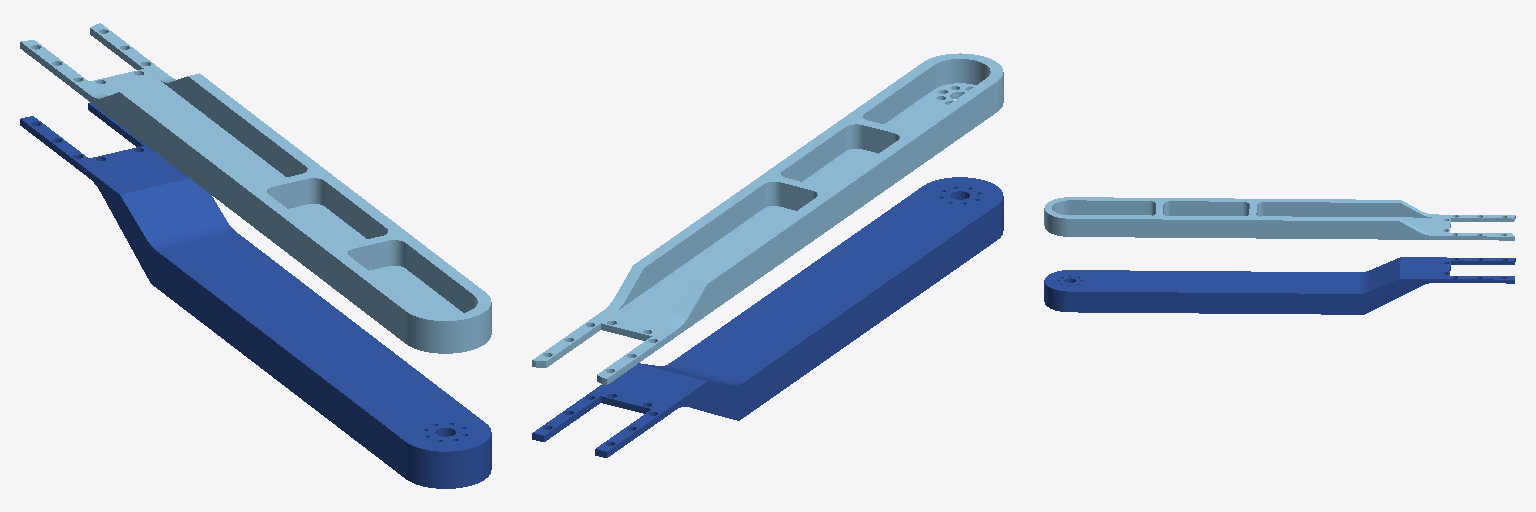
URDF robot description (project_robot):
<?xml version="1.0" ?>
<!-- Generated using onshape-to-robot -->
<!-- Onshape document_id: af0115e61c5582d0fb054981 -->
<robot name="project_robot">
  <!-- Link armbasemount -->
  <link name="armbasemount">
    <inertial>
      <origin xyz="-6.5271e-09 0.0497746 0.0289967" rpy="0 0 0"/>
      <mass value="0.208294"/>
      <inertia ixx="0.000285783" ixy="1.67817e-11" ixz="7.20071e-11" iyy="0.000540735" iyz="-8.04214e-05" izz="0.000468206"/>
    </inertial>
    <!-- Part armbasemount -->
    <visual>
      <origin xyz="0 0.1156 0.06" rpy="1.5708 -0 -1.5708"/>
      <geometry>
        <mesh filename="package://robot_desc/TrueRobot/assets/armbasemount.stl"/>
      </geometry>
      <material name="armbasemount_material">
        <color rgba="0.615686 0.811765 0.929412 1.0"/>
      </material>
    </visual>
    <collision>
      <origin xyz="0 0.1156 0.06" rpy="1.5708 -0 -1.5708"/>
      <geometry>
        <mesh filename="package://robot_desc/TrueRobot/assets/armbasemount.stl"/>
      </geometry>
    </collision>
  </link>
  <!-- Link dynamixelmotor_withhorn -->
  <link name="dynamixelmotor_withhorn">
    <inertial>
      <origin xyz="2.2107e-05 -0.0111083 -0.0258883" rpy="0 0 0"/>
      <mass value="0.0822187"/>
      <inertia ixx="2.3893e-05" ixy="2.16067e-08" ixz="-9.31492e-09" iyy="1.49171e-05" iyz="-4.32853e-07" izz="1.94145e-05"/>
    </inertial>
    <!-- Part dynamixelmotor_withhorn -->
    <visual>
      <origin xyz="0 0 -0.02585" rpy="0 -0 0"/>
      <geometry>
        <mesh filename="package://robot_desc/TrueRobot/assets/dynamixelmotor_withhorn.stl"/>
      </geometry>
      <material name="dynamixelmotor_withhorn_material">
        <color rgba="0.647059 0.647059 0.647059 1.0"/>
      </material>
    </visual>
    <collision>
      <origin xyz="0 0 -0.02585" rpy="0 -0 0"/>
      <geometry>
        <mesh filename="package://robot_desc/TrueRobot/assets/dynamixelmotor_withhorn.stl"/>
      </geometry>
    </collision>
  </link>
  <!-- Link shoulderlink -->
  <link name="shoulderlink">
    <inertial>
      <origin xyz="0.00230505 -0.118128 0.023144" rpy="0 0 0"/>
      <mass value="0.121158"/>
      <inertia ixx="0.000827674" ixy="1.41672e-05" ixz="3.22666e-07" iyy="0.000101751" iyz="-1.65636e-05" izz="0.000764053"/>
    </inertial>
    <!-- Part combinedshoulder -->
    <visual>
      <origin xyz="0.00351367 -0.169801 4.16334e-17" rpy="-3.14159 -1.81497e-32 -1.55128"/>
      <geometry>
        <mesh filename="package://robot_desc/TrueRobot/assets/combinedshoulder.stl"/>
      </geometry>
      <material name="combinedshoulder_material">
        <color rgba="0.615686 0.811765 0.929412 1.0"/>
      </material>
    </visual>
    <collision>
      <origin xyz="0.00351367 -0.169801 4.16334e-17" rpy="-3.14159 -1.81497e-32 -1.55128"/>
      <geometry>
        <mesh filename="package://robot_desc/TrueRobot/assets/combinedshoulder.stl"/>
      </geometry>
    </collision>
    <!-- Part bottomshoulderlink -->
    <visual>
      <origin xyz="0.00351367 -0.169801 4.16334e-17" rpy="-3.14159 -1.81497e-32 -1.55128"/>
      <geometry>
        <mesh filename="package://robot_desc/TrueRobot/assets/bottomshoulderlink.stl"/>
      </geometry>
      <material name="bottomshoulderlink_material">
        <color rgba="0.231373 0.380392 0.705882 1.0"/>
      </material>
    </visual>
    <collision>
      <origin xyz="0.00351367 -0.169801 4.16334e-17" rpy="-3.14159 -1.81497e-32 -1.55128"/>
      <geometry>
        <mesh filename="package://robot_desc/TrueRobot/assets/bottomshoulderlink.stl"/>
      </geometry>
    </collision>
  </link>
  <!-- Link dynamixelmotor_withhorn_2 -->
  <link name="dynamixelmotor_withhorn_2">
    <inertial>
      <origin xyz="0.286892 2.2107e-05 0.0180383" rpy="0 0 0"/>
      <mass value="0.0822187"/>
      <inertia ixx="1.49171e-05" ixy="2.16067e-08" ixz="4.32853e-07" iyy="2.3893e-05" iyz="9.31492e-09" izz="1.94145e-05"/>
    </inertial>
    <!-- Part dynamixelmotor_withhorn_2 -->
    <visual>
      <origin xyz="0.298 -2.10769e-16 0.018" rpy="3.14159 2.52754e-30 1.5708"/>
      <geometry>
        <mesh filename="package://robot_desc/TrueRobot/assets/dynamixelmotor_withhorn.stl"/>
      </geometry>
      <material name="dynamixelmotor_withhorn_2_material">
        <color rgba="0.647059 0.647059 0.647059 1.0"/>
      </material>
    </visual>
    <collision>
      <origin xyz="0.298 -2.10769e-16 0.018" rpy="3.14159 2.52754e-30 1.5708"/>
      <geometry>
        <mesh filename="package://robot_desc/TrueRobot/assets/dynamixelmotor_withhorn.stl"/>
      </geometry>
    </collision>
  </link>
  <!-- Link hooplink -->
  <link name="hooplink">
    <inertial>
      <origin xyz="0.13582 -2.36422e-05 0.00482647" rpy="0 0 0"/>
      <mass value="0.0593038"/>
      <inertia ixx="1.68216e-05" ixy="2.32111e-07" ixz="5.91357e-06" iyy="0.000520007" iyz="-4.66396e-09" izz="0.000534783"/>
    </inertial>
    <!-- Part hooplink -->
    <visual>
      <origin xyz="0.169838 0.1698 0" rpy="0 2.18953e-47 1.73472e-18"/>
      <geometry>
        <mesh filename="package://robot_desc/TrueRobot/assets/hooplink.stl"/>
      </geometry>
      <material name="hooplink_material">
        <color rgba="0.615686 0.811765 0.929412 1.0"/>
      </material>
    </visual>
    <collision>
      <origin xyz="0.169838 0.1698 0" rpy="0 2.18953e-47 1.73472e-18"/>
      <geometry>
        <mesh filename="package://robot_desc/TrueRobot/assets/hooplink.stl"/>
      </geometry>
    </collision>
  </link>
  <!-- Frame EEframe (dummy link + fixed joint) -->
  <link name="EEframe">
    <origin xyz="0 0 0" rpy="0 -0 0"/>
    <inertial>
      <origin xyz="0 0 0" rpy="0 0 0"/>
      <mass value="1e-9"/>
      <inertia ixx="0" ixy="0" ixz="0" iyy="0" iyz="0" izz="0"/>
    </inertial>
  </link>
  <joint name="EEframe_frame" type="fixed">
    <origin xyz="0.3 -0.0002 0.003" rpy="0 2.18953e-47 1.73472e-18"/>
    <parent link="hooplink"/>
    <child link="EEframe"/>
    <axis xyz="0 0 0"/>
  </joint>
  <!-- Joint from dynamixelmotor_withhorn_2 to hooplink -->
  <joint name="elbow" type="revolute">
    <origin xyz="0.298 9.55833e-16 -0.0025" rpy="3.14159 -6.69473e-32 -0.0104131"/>
    <parent link="dynamixelmotor_withhorn_2"/>
    <child link="hooplink"/>
    <axis xyz="0 0 1"/>
    <limit effort="10" velocity="10" lower="-2.31425" upper="2.29342"/>
  </joint>
  <!-- Joint from shoulderlink to dynamixelmotor_withhorn_2 -->
  <joint name="elbowmotor" type="fixed">
    <origin xyz="7.89299e-17 -1.38778e-16 -0.003" rpy="2.46255e-32 -1.81497e-32 -1.55128"/>
    <parent link="shoulderlink"/>
    <child link="dynamixelmotor_withhorn_2"/>
    <axis xyz="0 0 1"/>
    <limit effort="10" velocity="10"/>
  </joint>
  <!-- Joint from dynamixelmotor_withhorn to shoulderlink -->
  <joint name="shoulder" type="revolute">
    <origin xyz="0 0 -0.00535" rpy="3.14159 -0 0"/>
    <parent link="dynamixelmotor_withhorn"/>
    <child link="shoulderlink"/>
    <axis xyz="0 0 1"/>
    <limit effort="10" velocity="10" lower="-1.59031" upper="1.55128"/>
  </joint>
  <!-- Joint from armbasemount to dynamixelmotor_withhorn -->
  <joint name="shouldermotor" type="fixed">
    <origin xyz="3.18626e-34 0.1036 0.10388" rpy="8.57655e-33 -1.2326e-32 0"/>
    <parent link="armbasemount"/>
    <child link="dynamixelmotor_withhorn"/>
    <axis xyz="0 0 1"/>
    <limit effort="10" velocity="10"/>
  </joint>
</robot>

--- What the picture shows (computed from the rendered views, not written in the file) ---
The picture shows the robot from 3 angles, left to right: view 1: azimuth 30°, elevation 25°; view 2: azimuth 150°, elevation 25°; view 3: azimuth 270°, elevation 25°; orthographic projection.
Model project_robot with 6 links and 5 joints (2 revolute, 3 fixed), rooted at armbasemount, posed all joints at 0.
Visible links, largest first — view 1: shoulderlink; view 2: shoulderlink; view 3: shoulderlink.
Boxes of the visible links, x1,y1,x2,y2 form: shoulderlink: (20, 23, 491, 488); shoulderlink: (532, 53, 1003, 457); shoulderlink: (1044, 197, 1515, 314).
Size in the robot's own frame: 0.0416 by 0.3281 by 0.072 metres.
Meshes: 5 distinct files referenced, 2 mesh visuals loaded (2 binary STL); not drawn: 4 (reference not matched to a file when rendering).